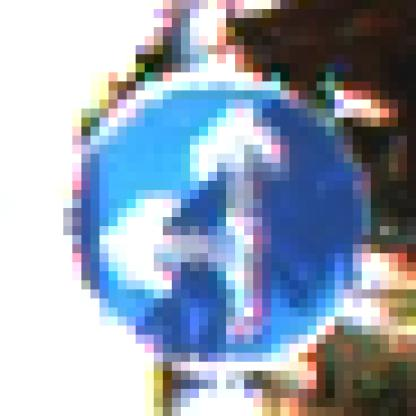Straight or Left: (55, 55, 372, 372)
